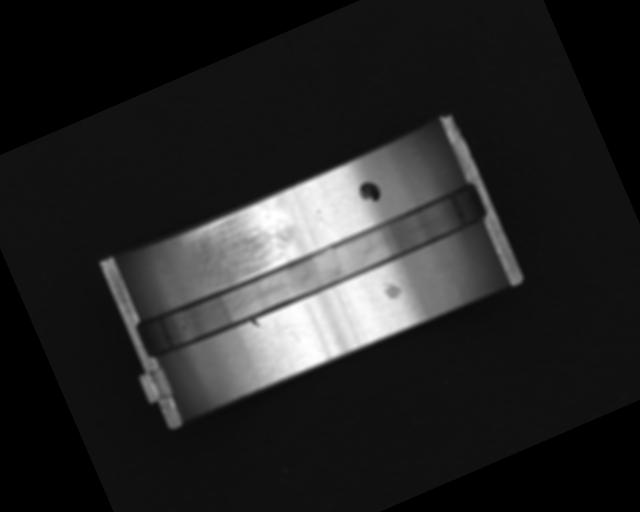blot: (356, 176, 384, 207)
bruise: (379, 274, 406, 303), (250, 316, 262, 331)
gap: (131, 179, 491, 364)
scratch: (181, 193, 305, 294)
